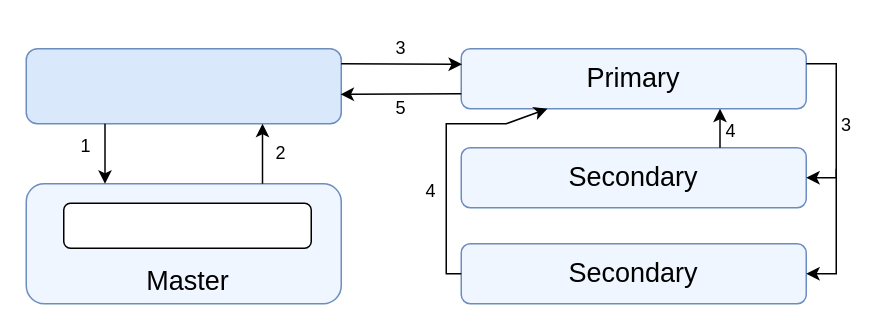
This 888x330 diagram has some shape labels left out. Here are the shapes that lost their labels. From the top down, the box of each, then its label:
(25, 47, 341, 124): Client
(62, 202, 311, 248): Metadata
